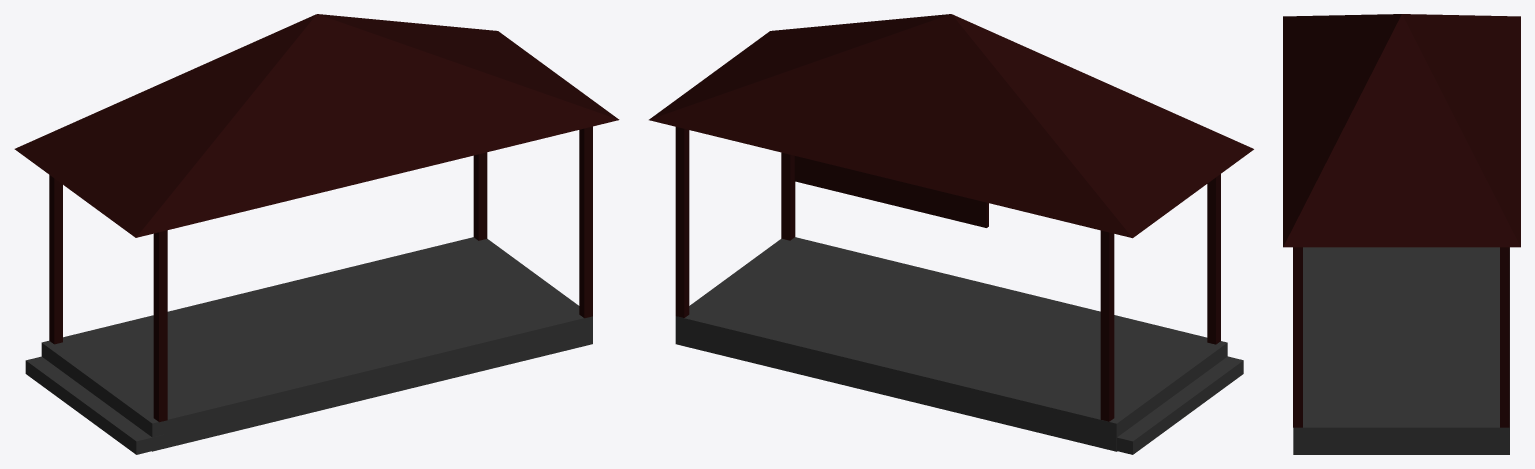
Rendered from station1.fbx.
3 renders of one model, left to right at view 1: azimuth 30°, elevation 25°; view 2: azimuth 150°, elevation 25°; view 3: azimuth 270°, elevation 25°, orthographic. The views are drawn at different scales.
Parts seen in each view (by area): view 1: Cube.006, Cube, Cube.001, Cube.002, Cube.004, Cube.005, Cube.003; view 2: Cube.006, Cube, Cube.001, Cube.003, Cube.005, Cube.002, Cube.004; view 3: Cube.006, Cube, Cube.004, Cube.003.
Boxes of the visible parts, x1,y1,x2,y2 form: Cube.006: (14,14,619,237); Cube: (41,237,592,451); Cube.001: (25,356,164,454); Cube.002: (153,230,167,422); Cube.004: (579,126,592,318); Cube.005: (49,175,62,344); Cube.003: (473,152,487,240); Cube.006: (649,14,1253,238); Cube: (675,237,1227,451); Cube.001: (1117,356,1243,454); Cube.003: (675,127,689,317); Cube.005: (1100,230,1114,421); Cube.002: (1207,174,1220,344); Cube.004: (781,152,795,240); Cube.006: (1283,14,1520,247); Cube: (1293,247,1509,454); Cube.004: (1293,247,1302,427); Cube.003: (1500,247,1509,427).
Bounding box in the file's own units: 504 × 342 × 220.
